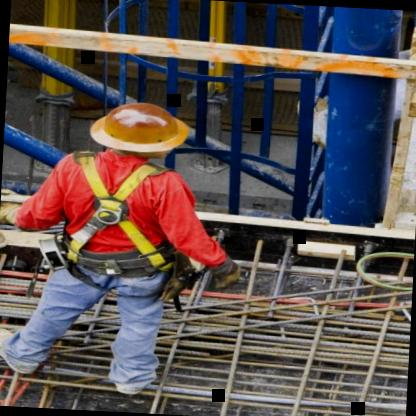helmet: (70, 92, 195, 187)
